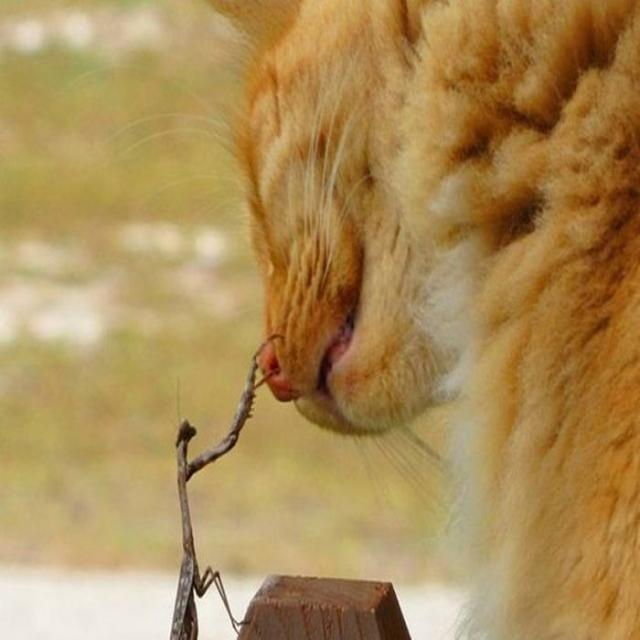cat: (230, 0, 640, 447)
